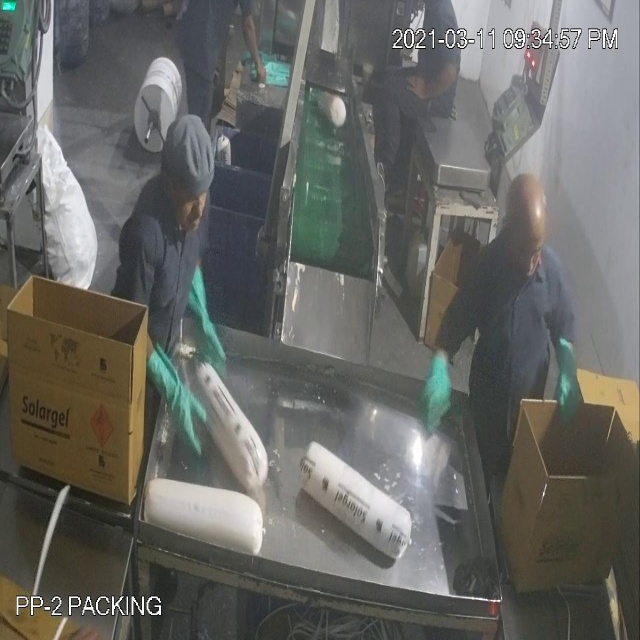Guantes: (553, 330, 582, 444), (419, 345, 454, 437)
Sin_guantes: (236, 6, 274, 93), (407, 54, 457, 109)
